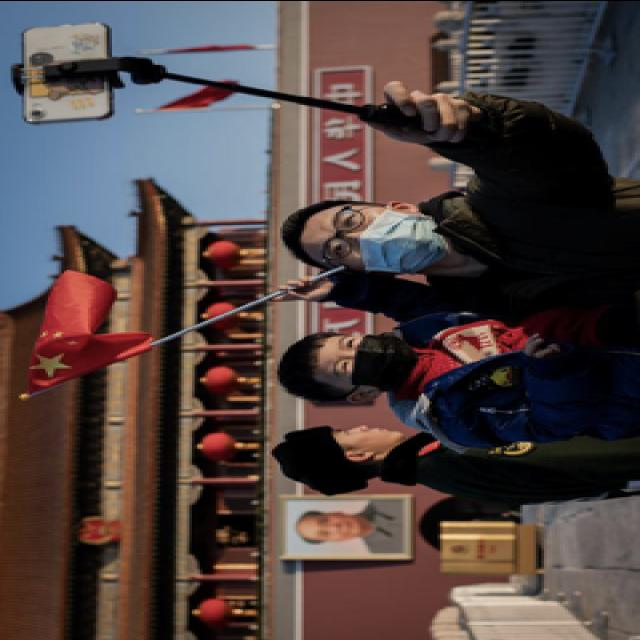with_mask: (312, 205, 442, 272), (325, 331, 411, 387)
without_mask: (330, 424, 400, 448)
